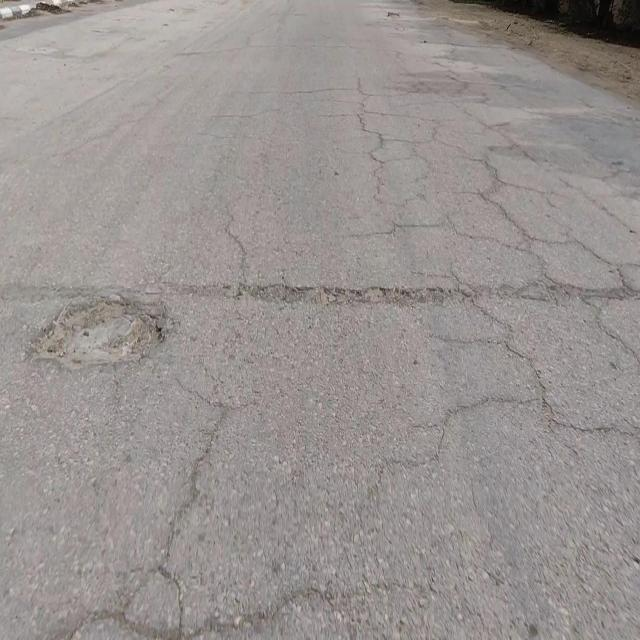Potholes: (27, 292, 168, 375)
